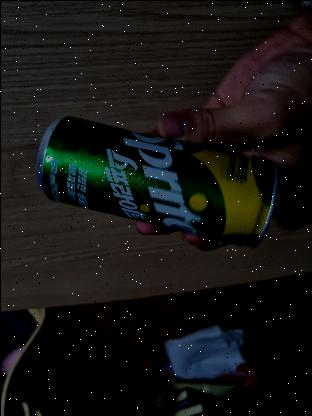Can: (37, 124, 272, 248)
